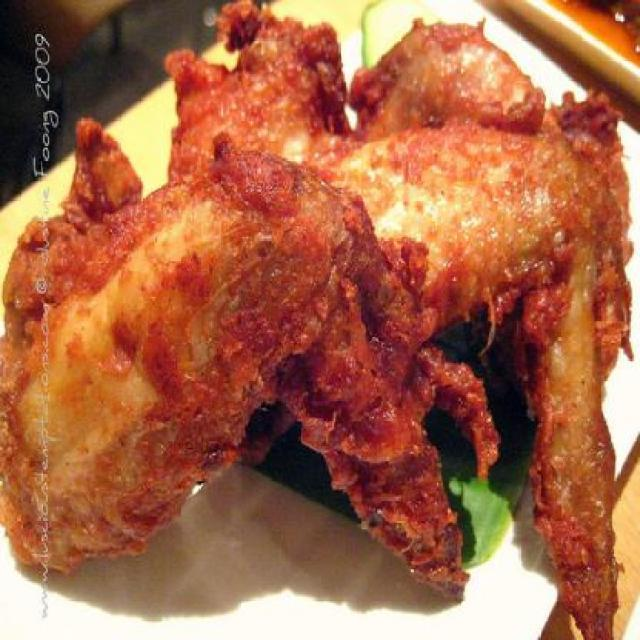Deep fried chicken wing: (55, 59, 620, 578)
